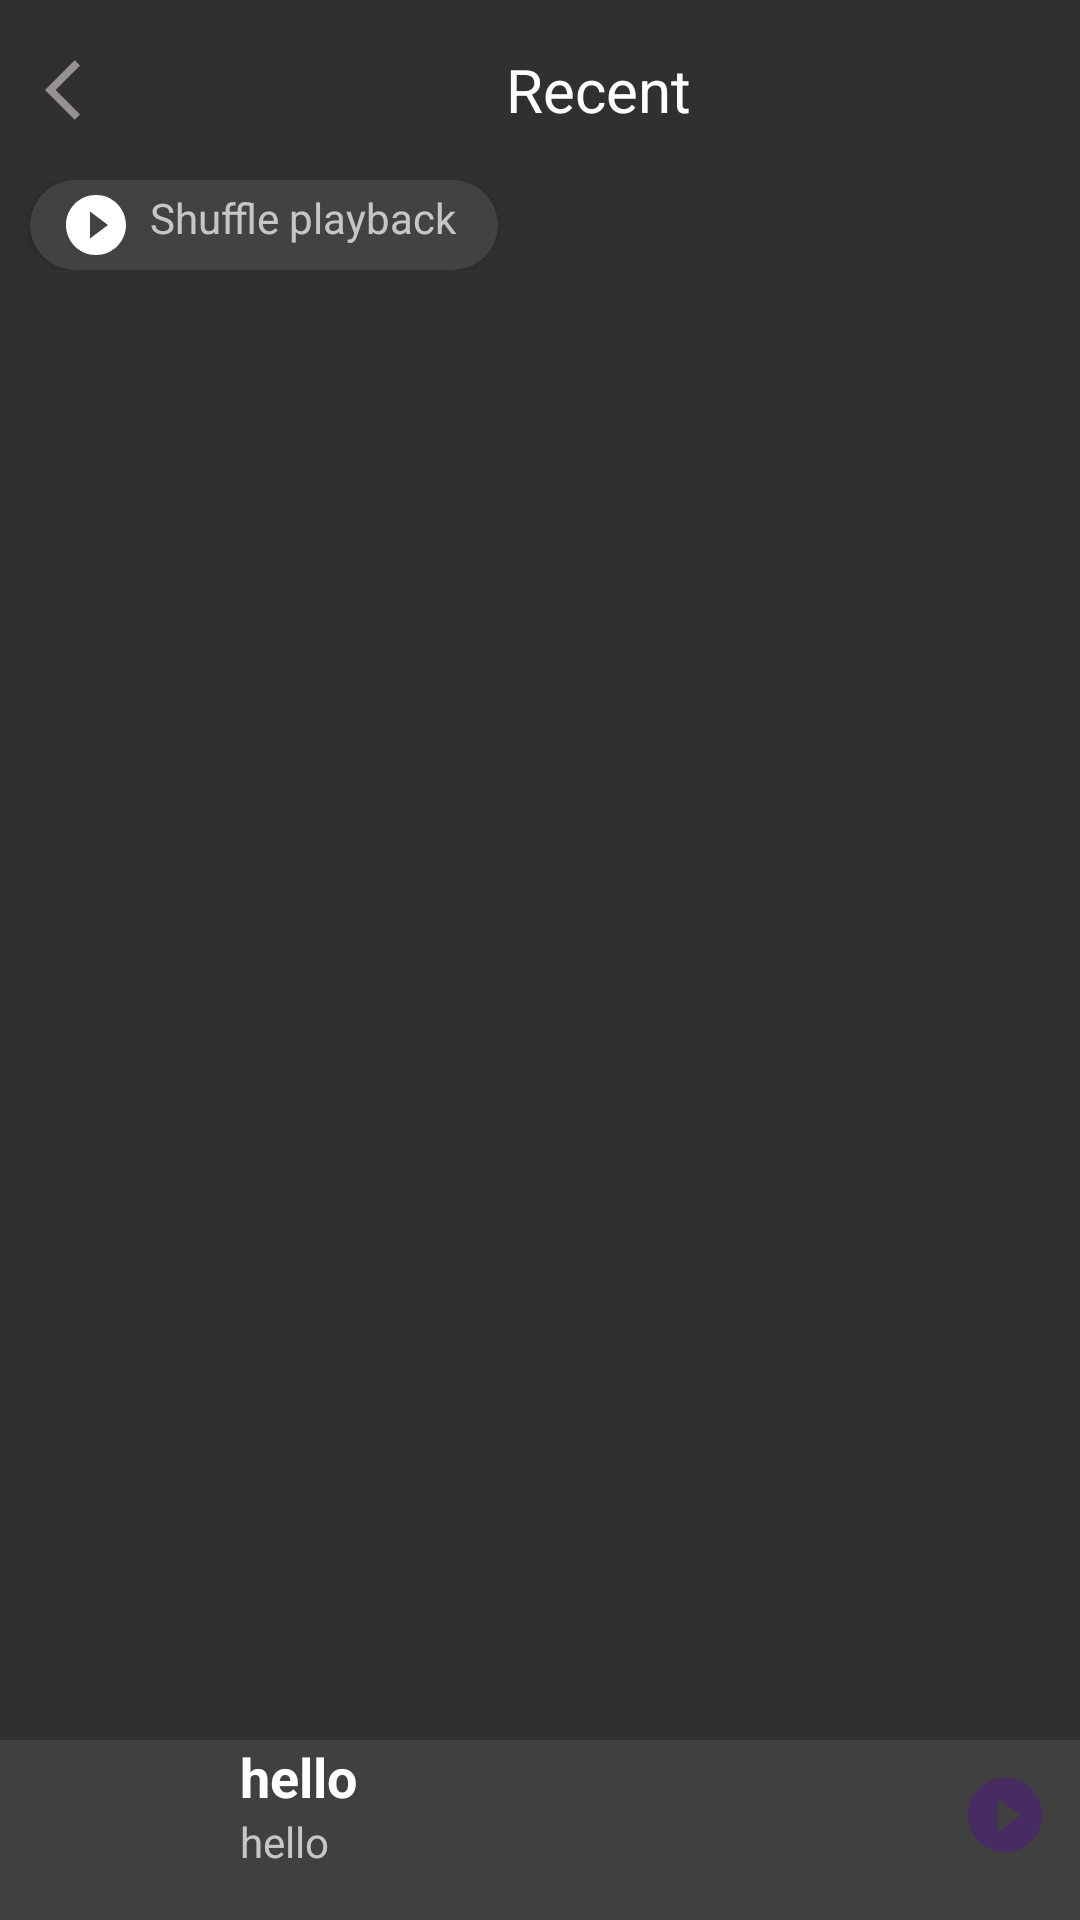

Icon click points for this 1080w x 1920h phone screenshot, format (x,y):
arrow back: (62,90)
play circle: (96,225), (1005,1815)
